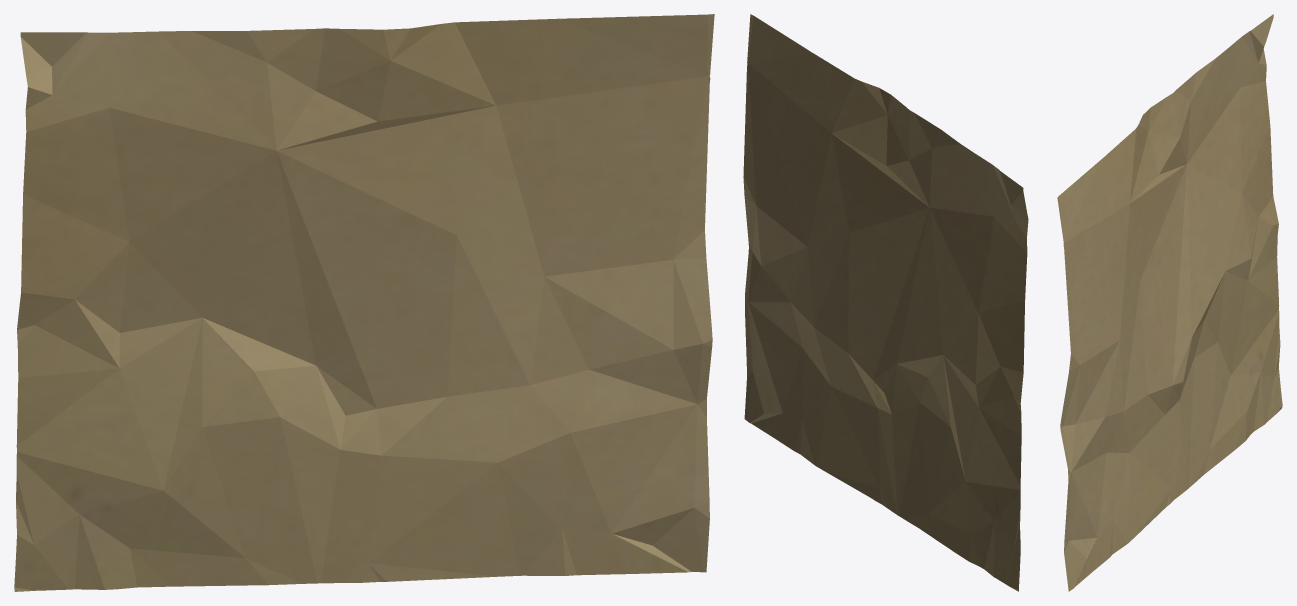
The picture shows the model from 3 angles, left to right: view 1: azimuth 30°, elevation 25°; view 2: azimuth 150°, elevation 25°; view 3: azimuth 270°, elevation 25°; orthographic projection. The views are drawn at different scales.
Bounding box in the file's own units: 0.8374 × 0.8374 × 0.4337.
3 materials, 3 textured.
